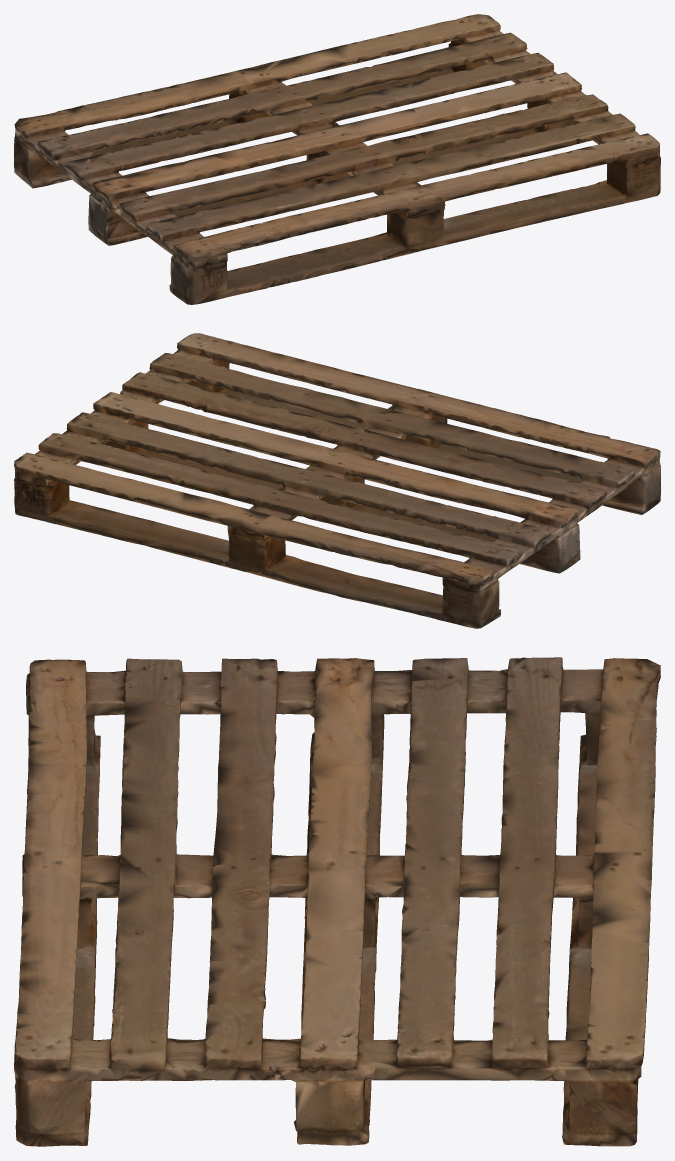
Rendered from eur_pallet_rawscan.glb.
3 views of the same model, one above another, from view 1: azimuth 30°, elevation 25°; view 2: azimuth 150°, elevation 25°; view 3: azimuth 270°, elevation 25° (orthographic). The views are drawn at different scales.
Parts seen in each view (by area): view 1: Object_2; view 2: Object_2; view 3: Object_2.
Boxes of the visible parts, bbox=[...] form: Object_2: bbox=[14, 14, 660, 304]; Object_2: bbox=[14, 333, 660, 628]; Object_2: bbox=[14, 657, 660, 1146].
Size of the model in its own units: 5.48 by 0.5895 by 3.74.
1 material, 1 textured.
